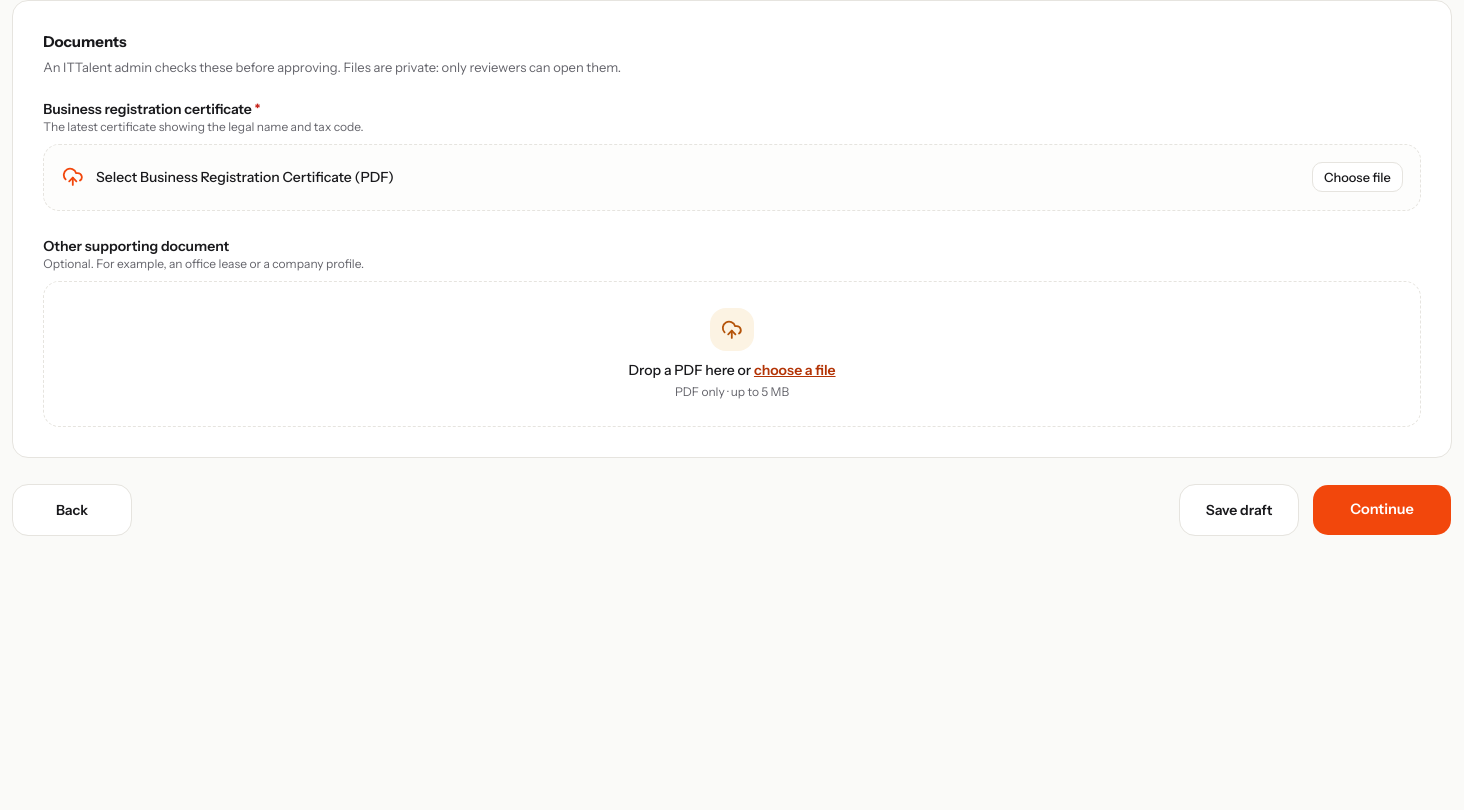
Test: Employer Registration Flow Components › Step3DocumentsForm › blocks proceeding when Business Registration Certificate is missing
Click the button "Continue": (1382, 510) [1312,484,1452,536]
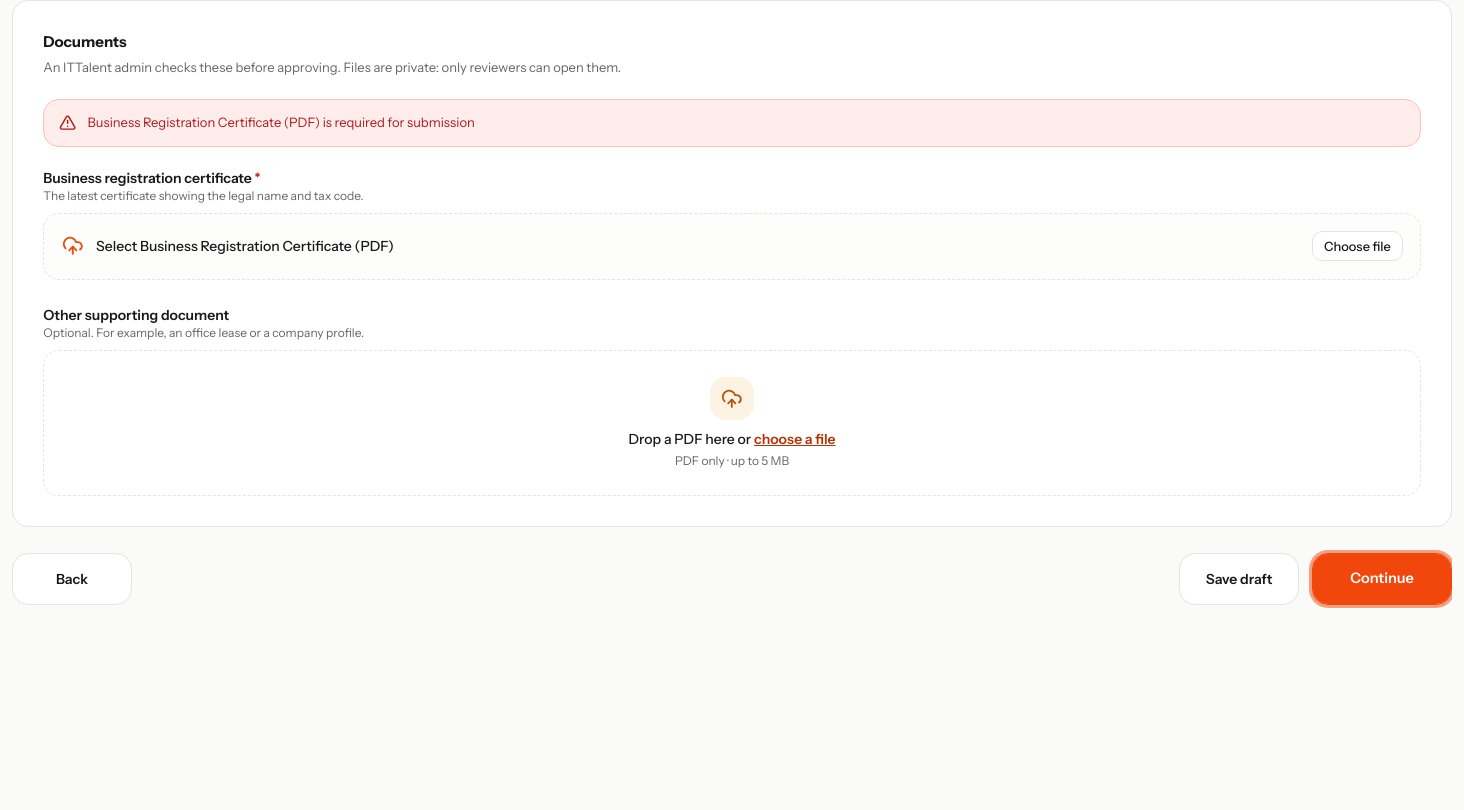
Expected: the text "Business Registration Certificate (PDF) is required for submission" is shown, [87,114,475,130]
